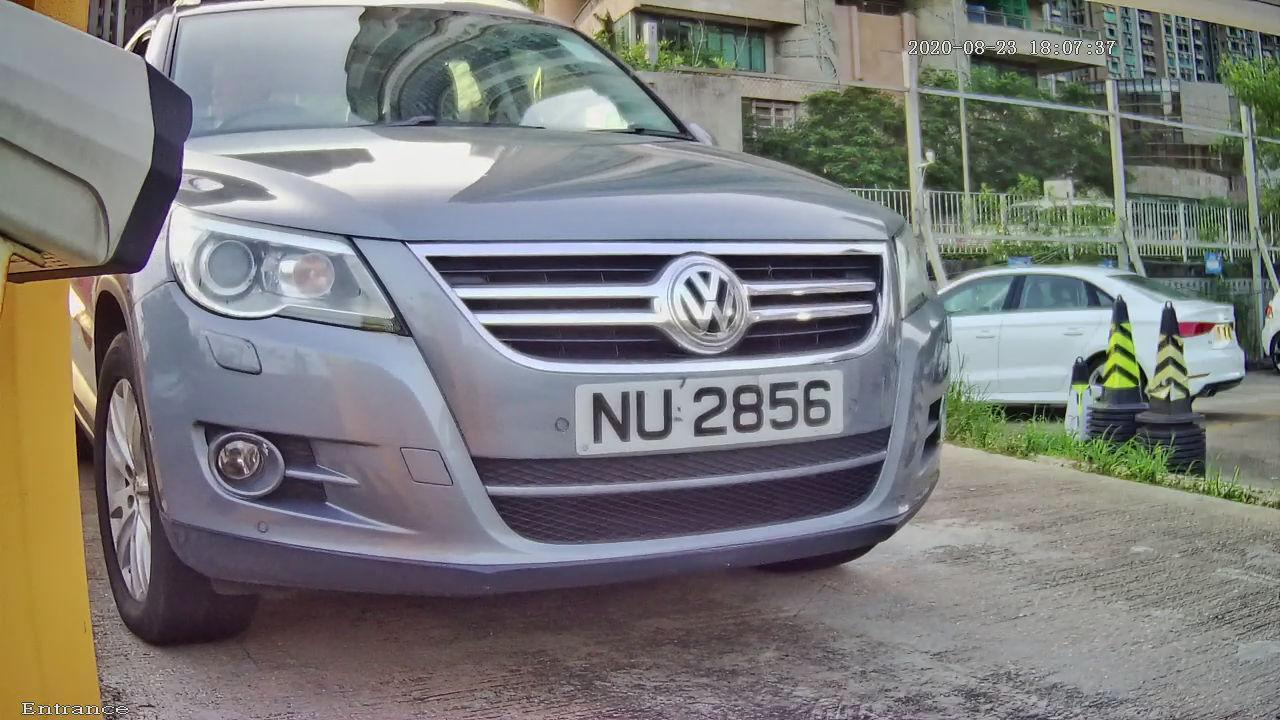Car: (46, 4, 1023, 650)
License Plate: (508, 337, 901, 503)
